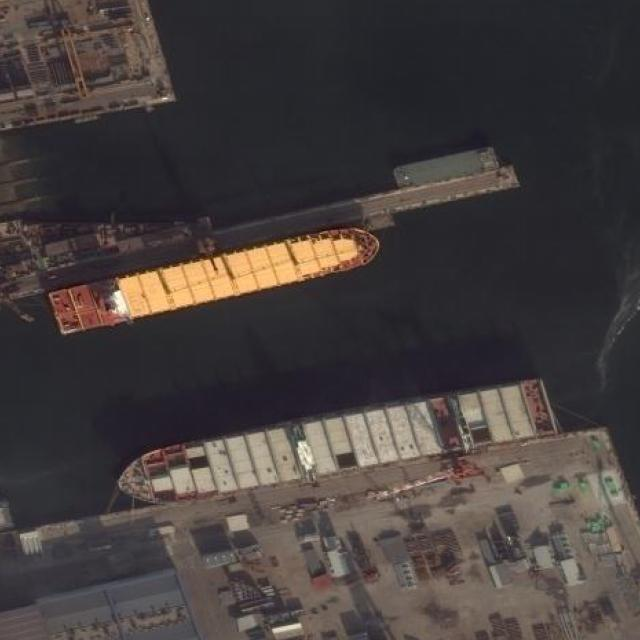Cargo: (114, 377, 557, 512), (51, 220, 383, 334)
